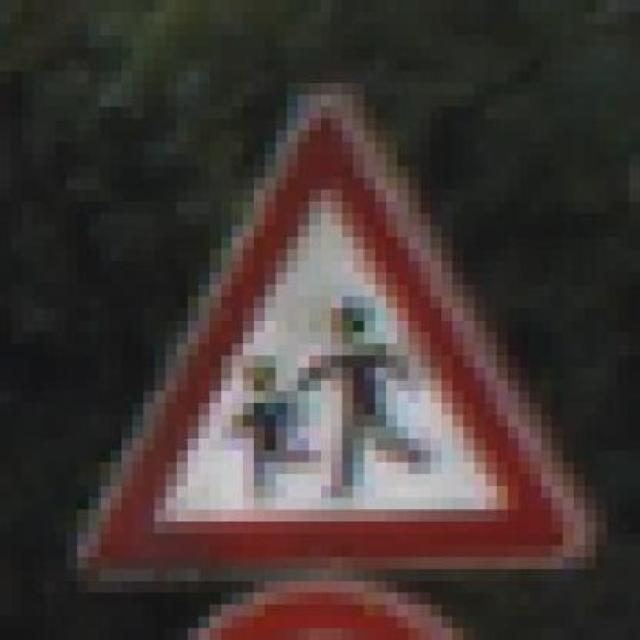Beware of children: (66, 71, 596, 592)
